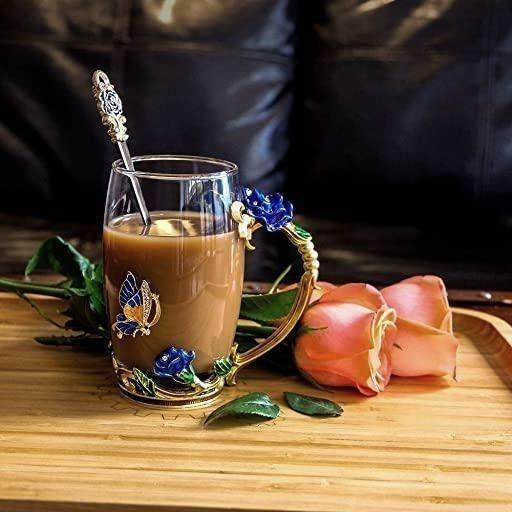glass-mug: (98, 150, 324, 410)
